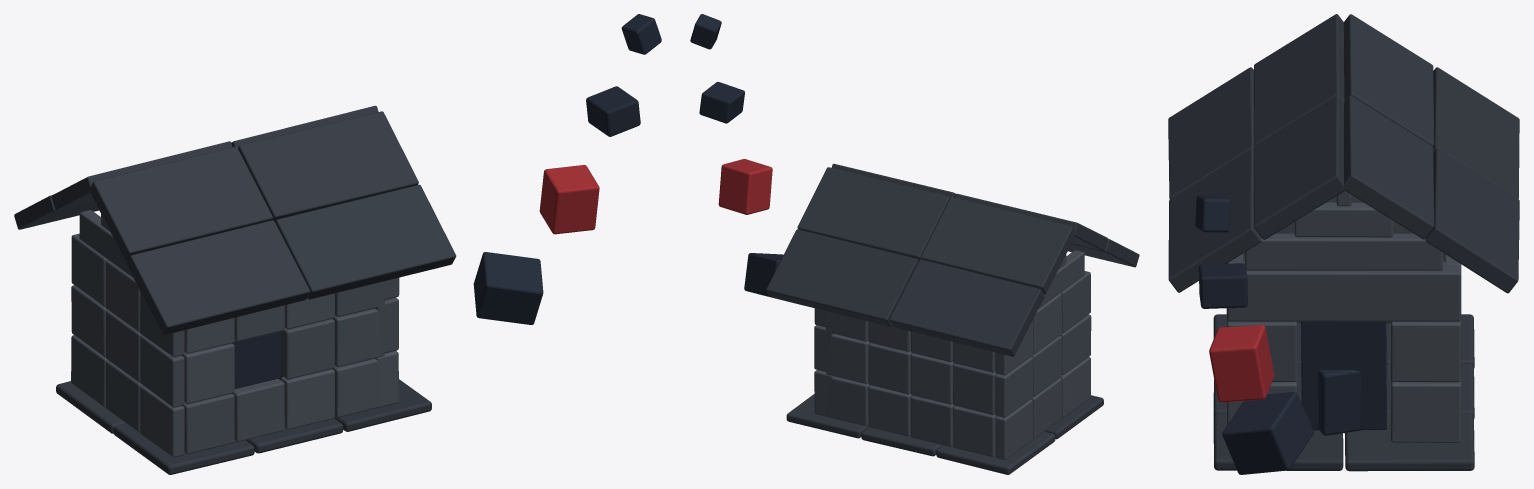
File: house.glb
3 renders of one model, left to right at view 1: azimuth 30°, elevation 25°; view 2: azimuth 150°, elevation 25°; view 3: azimuth 270°, elevation 25°, orthographic. The views are drawn at different scales.
Visible parts, largest first — view 1: frag46, frag48, frag45, frag47, lift0, lift1, frag9, frag12, frag11, frag7, frag6, frag0 (+27 smaller); view 2: frag50, frag52, frag49, frag51, lift1, frag21, frag19, frag22, frag24, frag25, frag18, frag1 (+27 smaller); view 3: lintel, frag47, frag51, frag52, frag49, frag45, frag48, frag46, frag50, reveal, frag56, lift0 (+15 smaller).
Boxes of the visible parts, bbox=[...] form: frag46: bbox=[126, 220, 310, 334]; frag48: bbox=[275, 184, 456, 299]; frag45: bbox=[89, 146, 272, 260]; frag47: bbox=[238, 111, 418, 221]; lift0: bbox=[473, 252, 543, 324]; lift1: bbox=[539, 165, 599, 234]; frag9: bbox=[232, 378, 284, 441]; frag12: bbox=[281, 319, 334, 379]; frag11: bbox=[280, 369, 334, 429]; frag7: bbox=[181, 343, 234, 403]; frag6: bbox=[182, 393, 234, 454]; frag0: bbox=[113, 423, 254, 474]; frag50: bbox=[889, 259, 1044, 356]; frag52: bbox=[766, 229, 918, 326]; frag49: bbox=[920, 197, 1075, 294]; frag51: bbox=[797, 167, 949, 260]; lift1: bbox=[718, 159, 772, 214]; frag21: bbox=[910, 395, 955, 446]; frag19: bbox=[953, 363, 997, 414]; frag22: bbox=[910, 353, 954, 404]; frag24: bbox=[868, 385, 912, 436]; frag25: bbox=[868, 343, 912, 394]; frag18: bbox=[953, 406, 996, 457]; frag1: bbox=[936, 431, 1055, 474]; lintel: bbox=[1227, 261, 1461, 321]; frag47: bbox=[1254, 95, 1344, 239]; frag51: bbox=[1343, 95, 1434, 239]; frag52: bbox=[1425, 148, 1519, 293]; frag49: bbox=[1343, 14, 1434, 146]; frag45: bbox=[1254, 14, 1344, 145]; frag48: bbox=[1168, 149, 1261, 292]; frag46: bbox=[1168, 67, 1254, 199]; frag50: bbox=[1433, 67, 1519, 199]; reveal: bbox=[1301, 321, 1386, 430]; frag56: bbox=[1245, 233, 1442, 270]; lift0: bbox=[1222, 391, 1313, 474].
Bounding box in the file's own units: 5.15 × 3.32 × 2.68.
